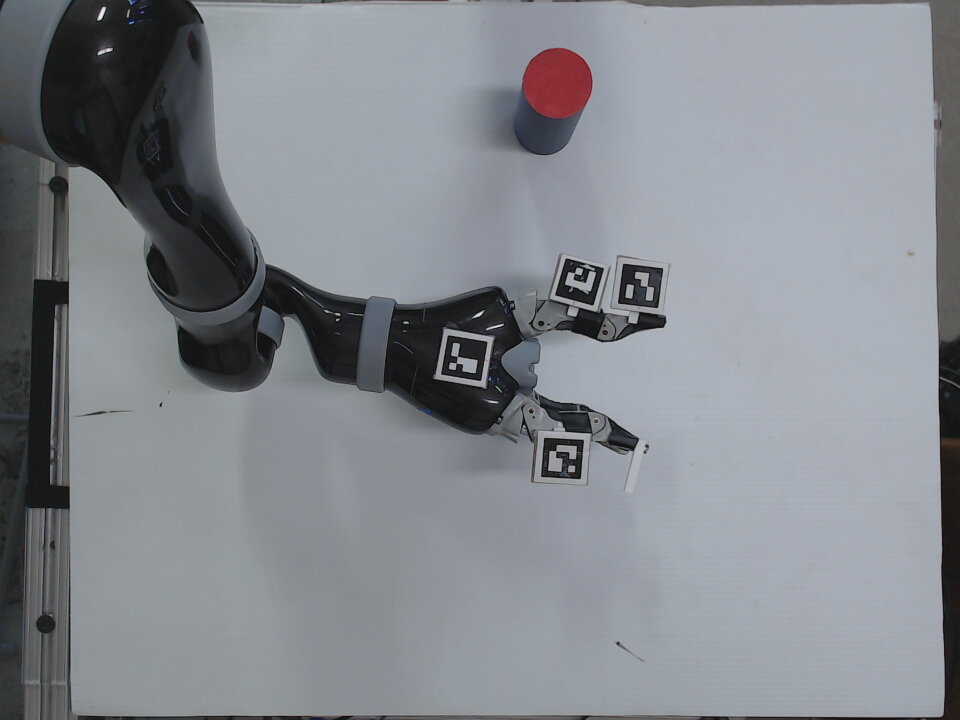cylinder: (512, 47, 595, 157)
